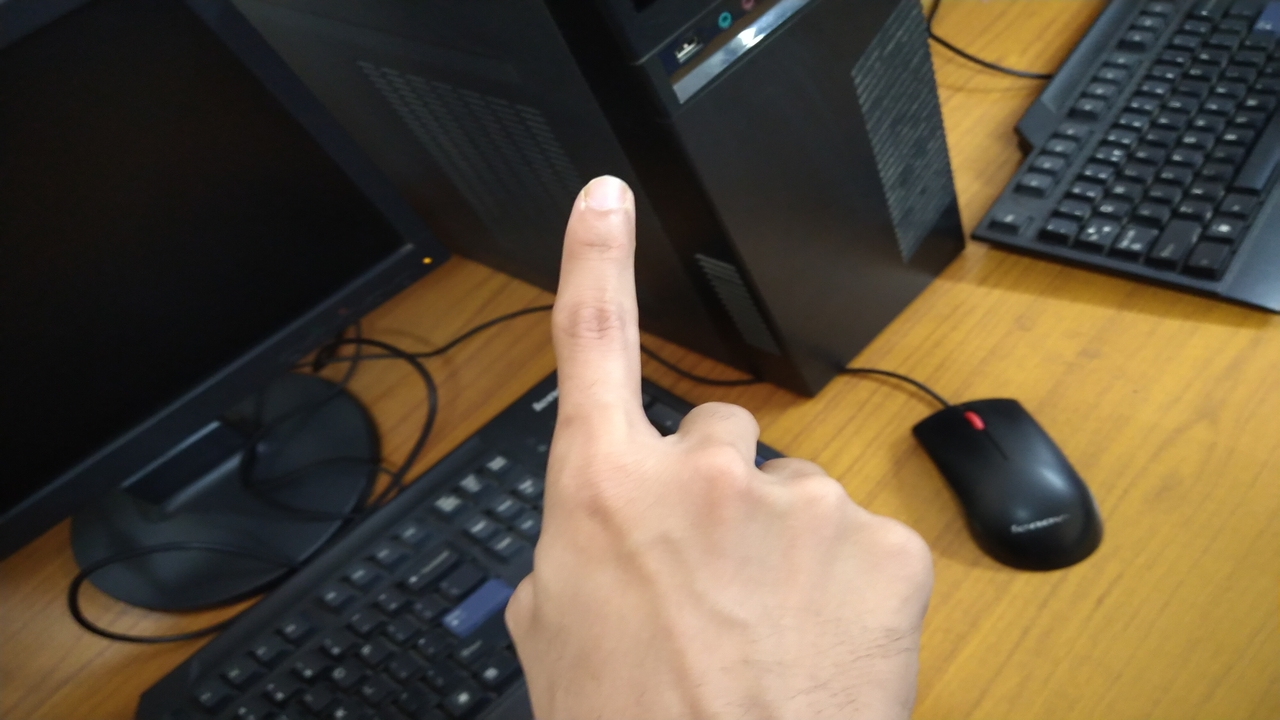fingertip: (564, 164, 638, 240)
